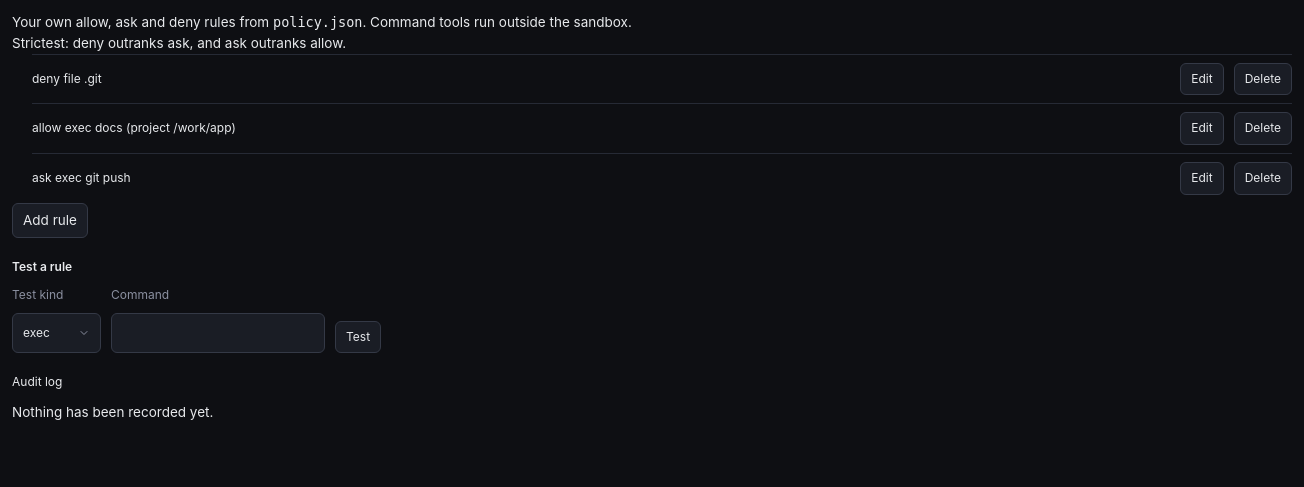
Owner rules in Settings › adds a rule through the backend and shows the saved list
The width and height of the screenshot is (1304, 487).
Click the button "Add rule": x=50, y=220 x1=12 y1=203 x2=88 y2=238
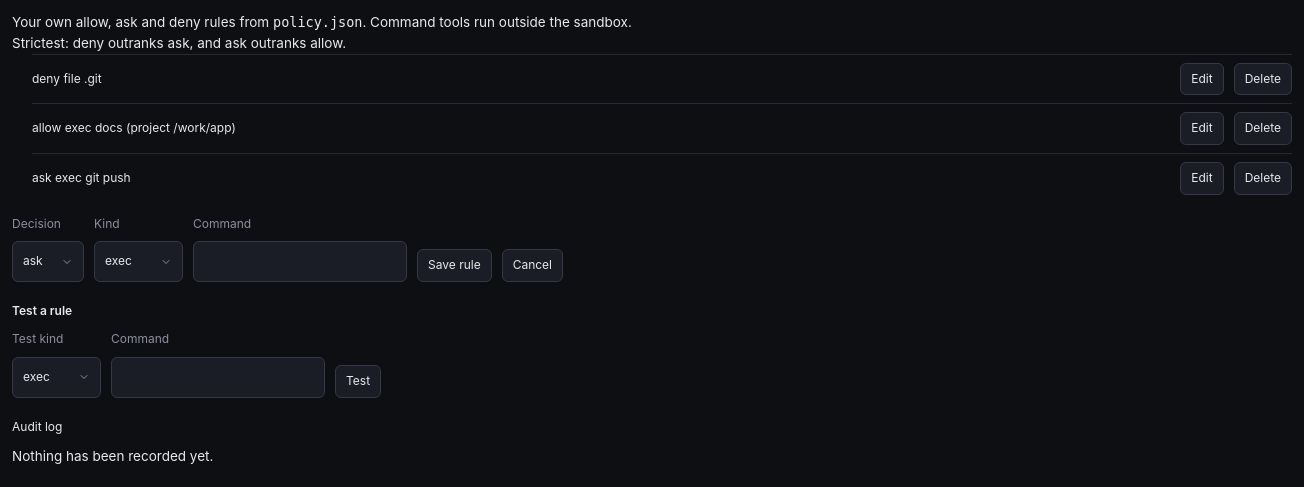
Select "allow" in the dropdown labelled "Decision": x=48, y=262 x1=12 y1=241 x2=84 y2=282
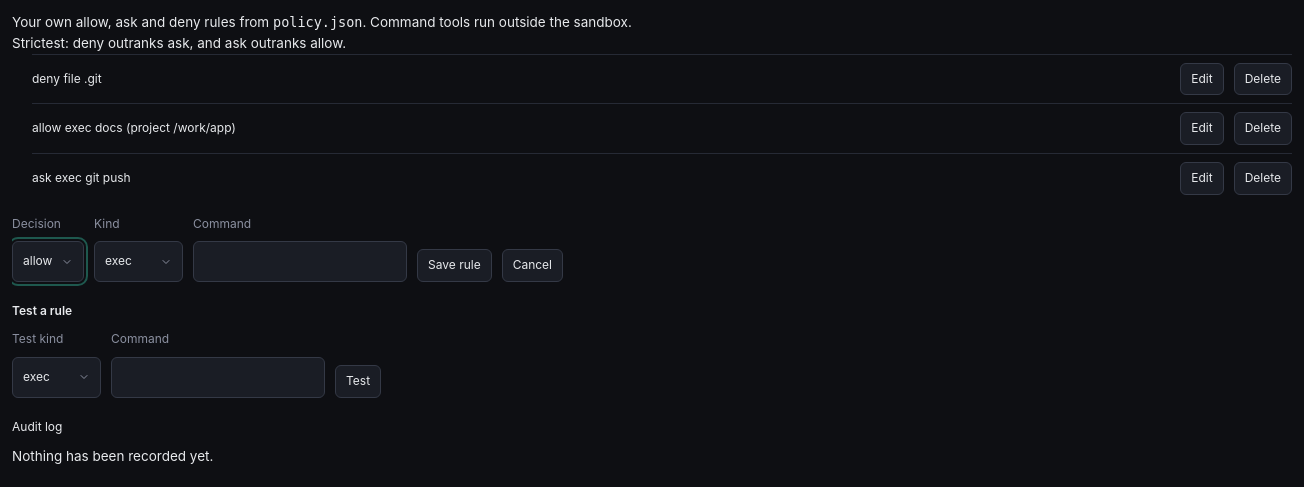
Select "file" in the dropdown labelled "Kind": x=138, y=262 x1=94 y1=241 x2=183 y2=282
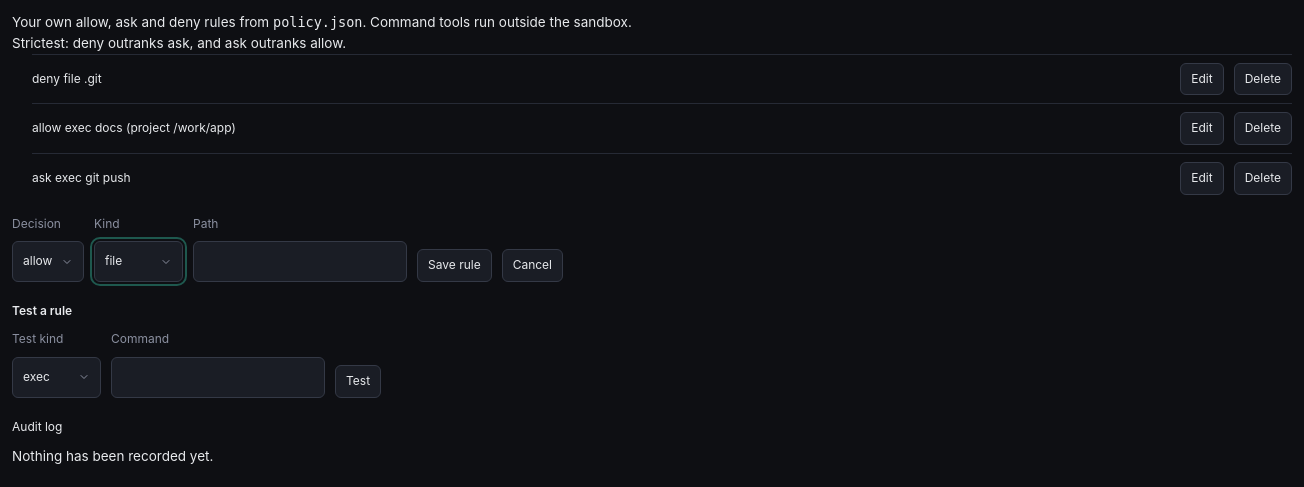
In the field labelled "Path": x=300, y=262 x1=193 y1=241 x2=407 y2=282, type "src"
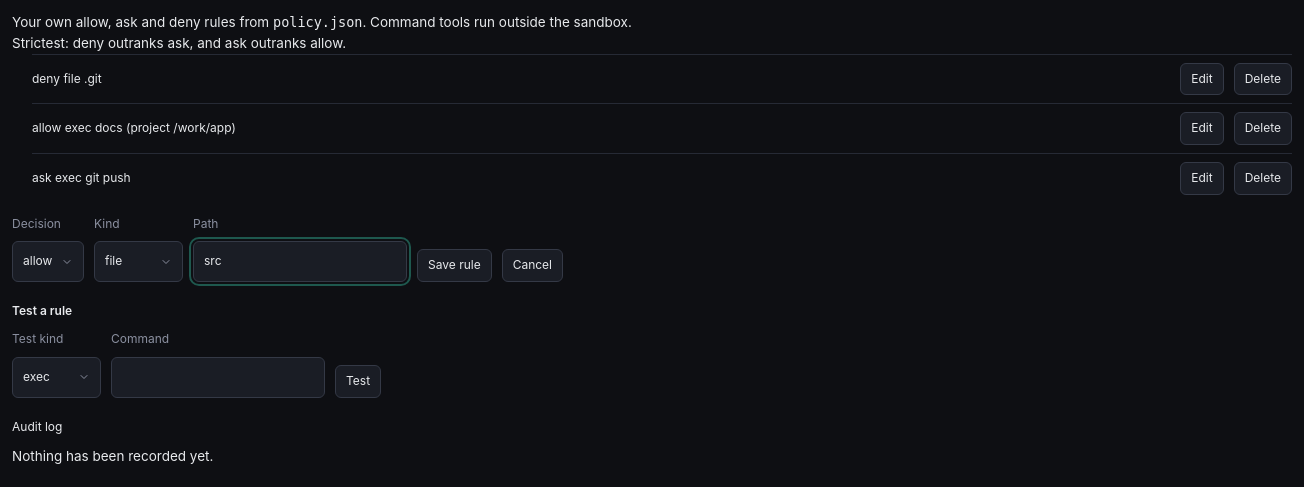
Click the button "Save rule": x=454, y=266 x1=417 y1=249 x2=492 y2=282
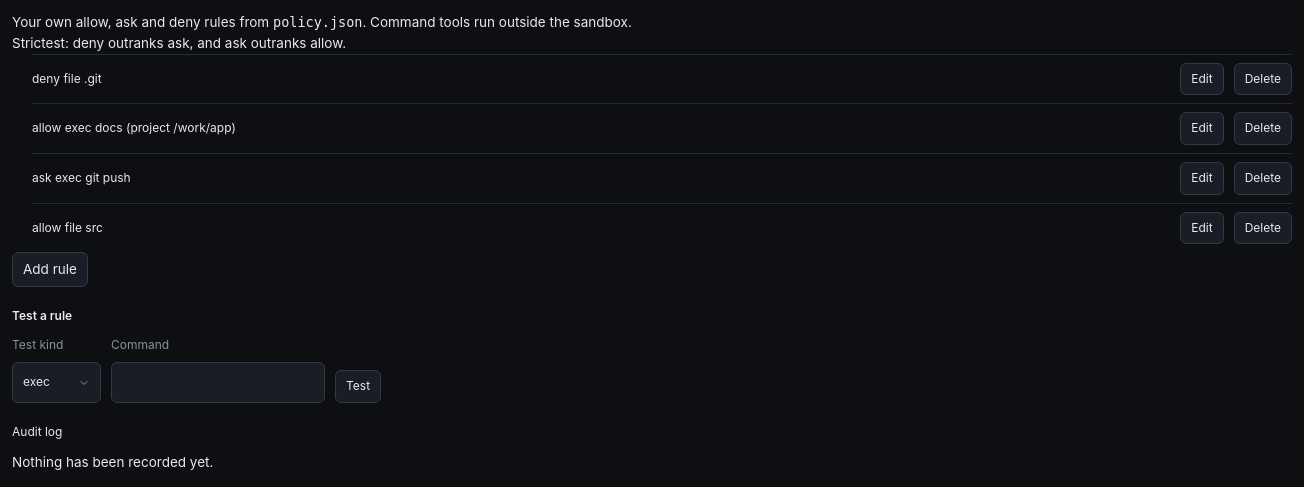
Now the text "allow file src" is shown, box x1=32 y1=220 x2=103 y2=235
Now the label labelled "Path" is gone
